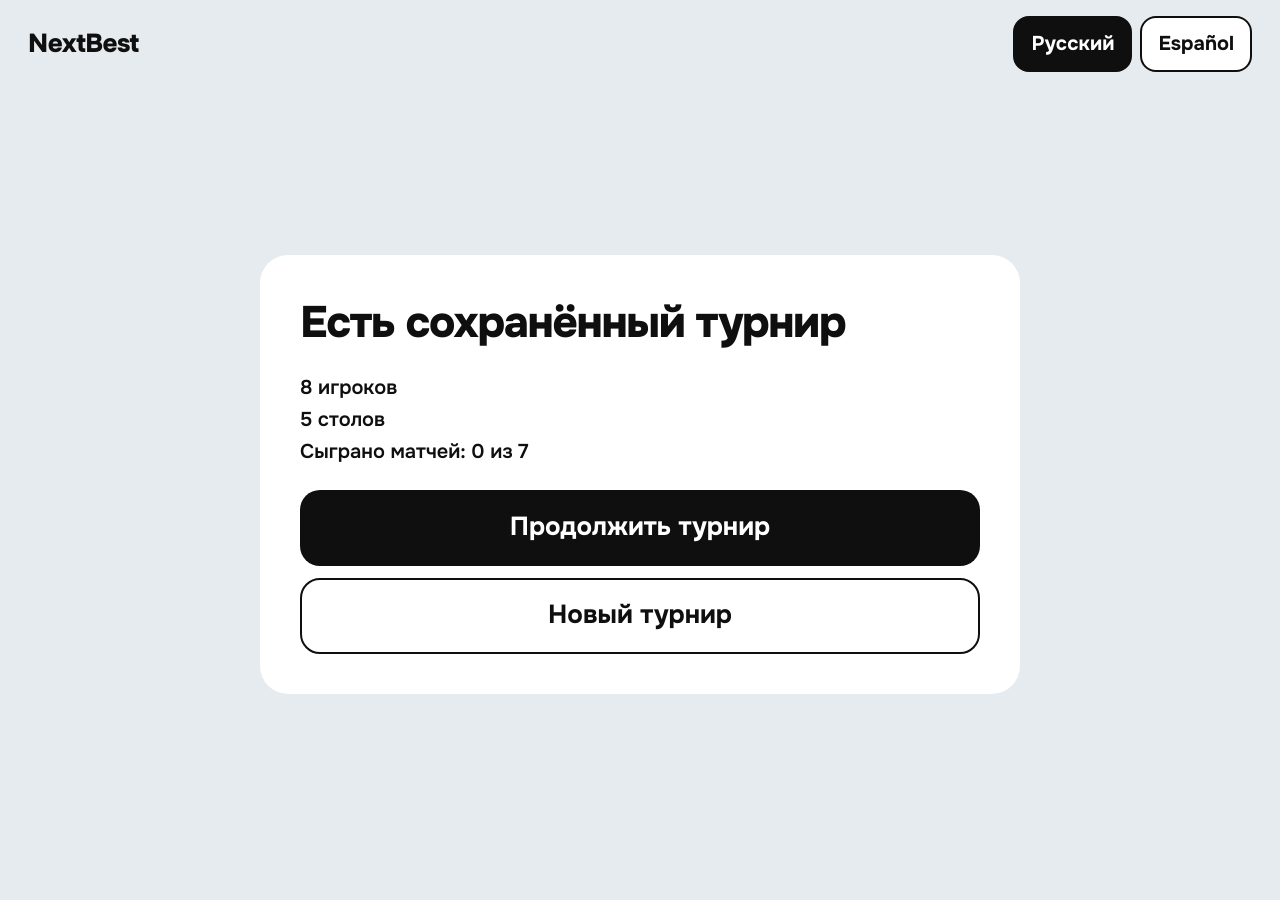
it: restoring and finishing › switching language keeps the game and translates the grid
Click the button "Продолжить турнир" at (640, 528), box left=300, top=490, right=980, bottom=566
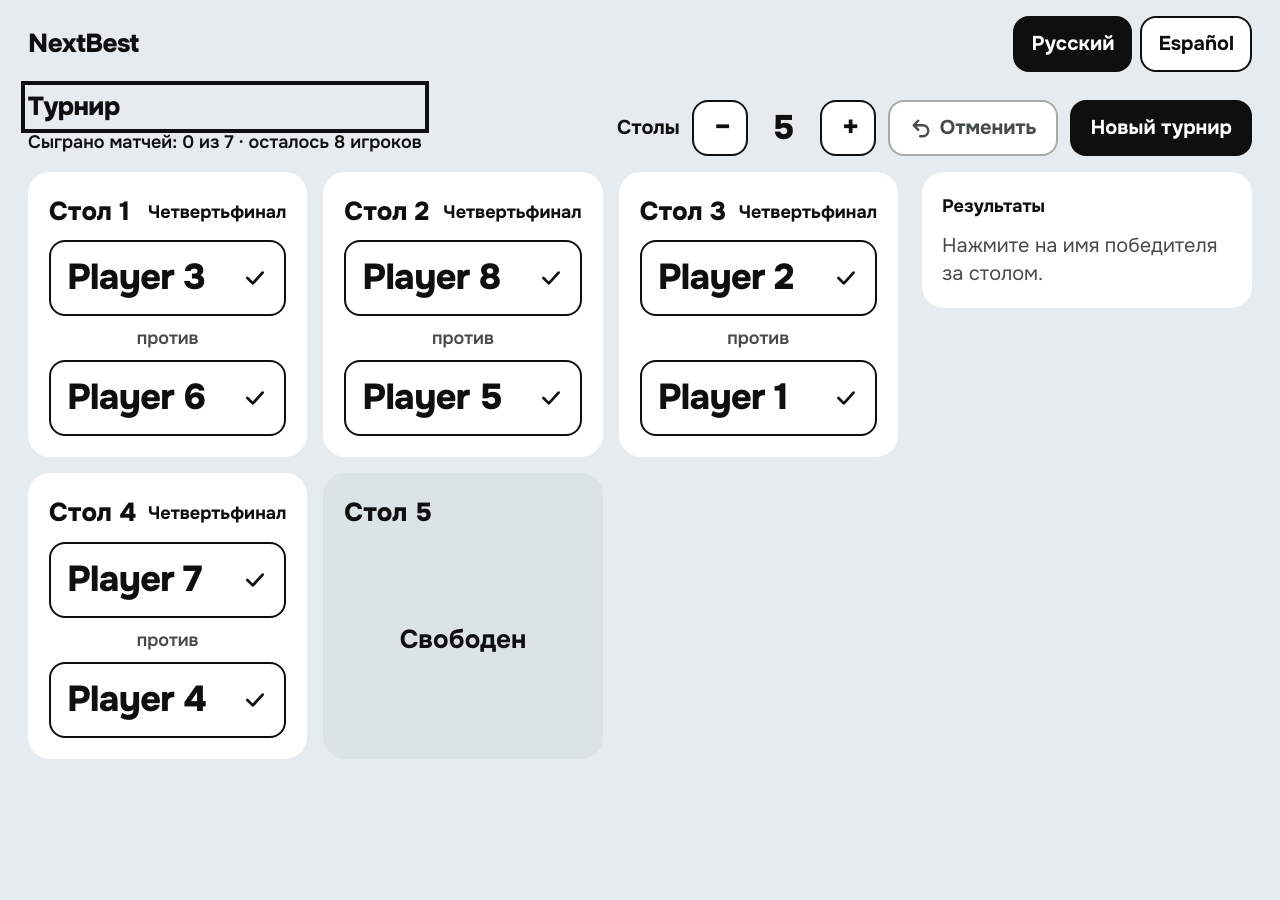
Click the button "Español" at (1196, 44), box left=1140, top=16, right=1252, bottom=72
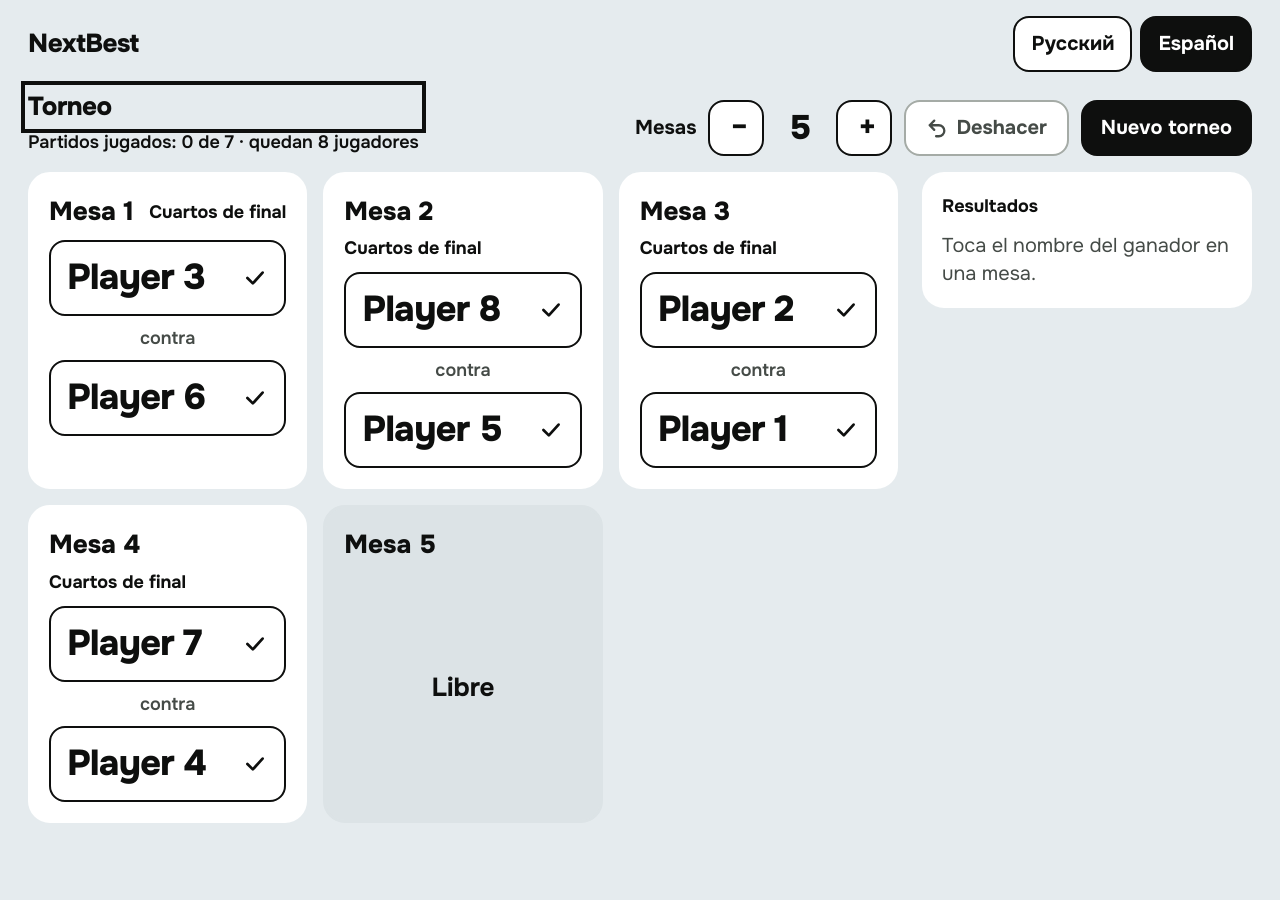
Expected: the heading "Torneo" is shown, left=28, top=90, right=112, bottom=123
Expected: the element "Mesa 5" is shown, left=323, top=505, right=603, bottom=823
Expected: the text "Libre" is shown, left=431, top=671, right=494, bottom=704
